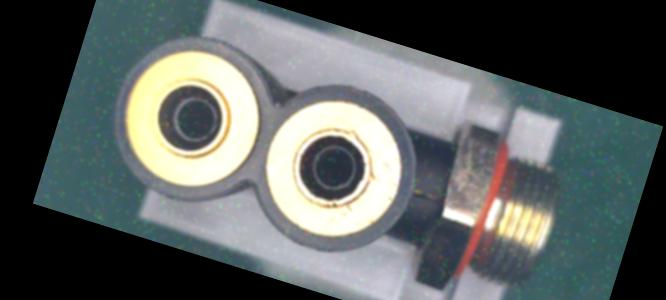craze: (409, 184, 442, 208)
